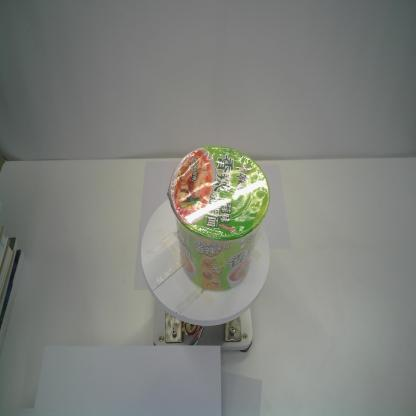Instant Noodles: (166, 145, 271, 292)
